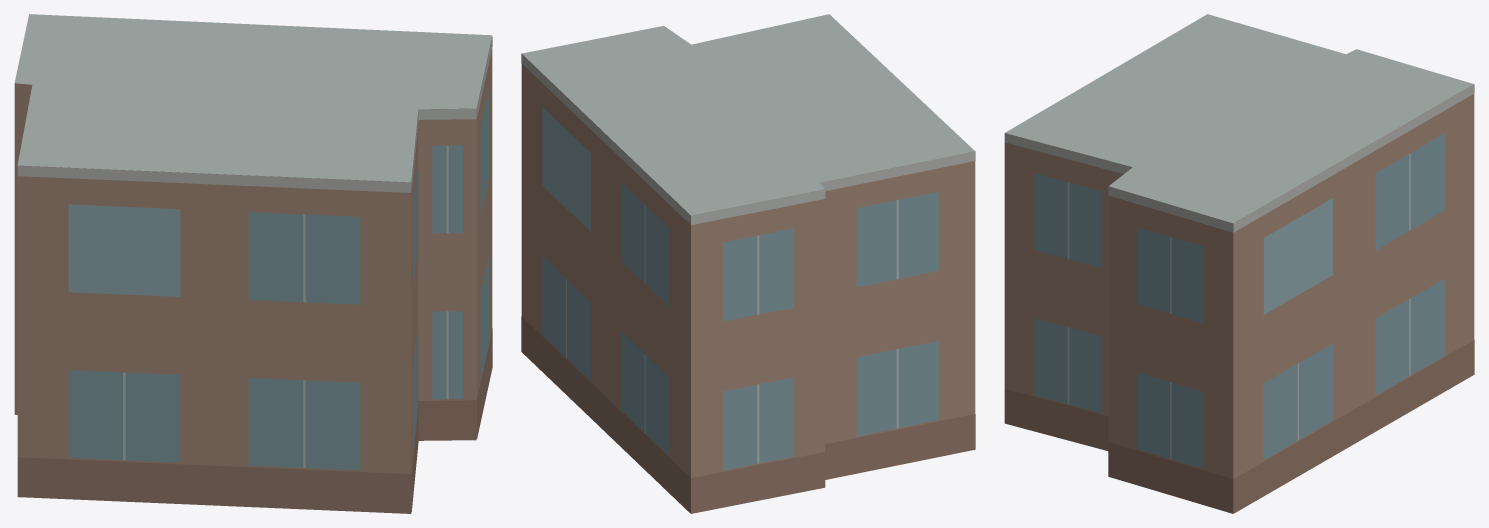
Rendered from survey-upis-32975554.glb.
3 renders of one model, left to right at view 1: azimuth 30°, elevation 25°; view 2: azimuth 150°, elevation 25°; view 3: azimuth 270°, elevation 25°, orthographic. The views are drawn at different scales.
Visible parts, largest first — view 1: survey-upis-32975554.tmp; view 2: survey-upis-32975554.tmp; view 3: survey-upis-32975554.tmp.
Part boxes in pixels (x1,y1,x2,y2): survey-upis-32975554.tmp: (14, 14, 492, 513); survey-upis-32975554.tmp: (521, 14, 975, 513); survey-upis-32975554.tmp: (1004, 14, 1474, 513).
Size of the model in its own units: 11.76 by 7.6 by 11.15.
